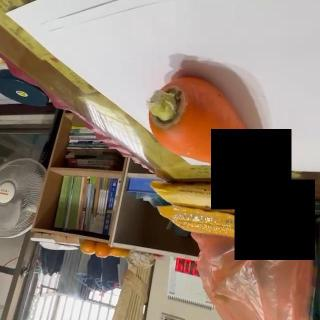carrot: (147, 75, 263, 178)
